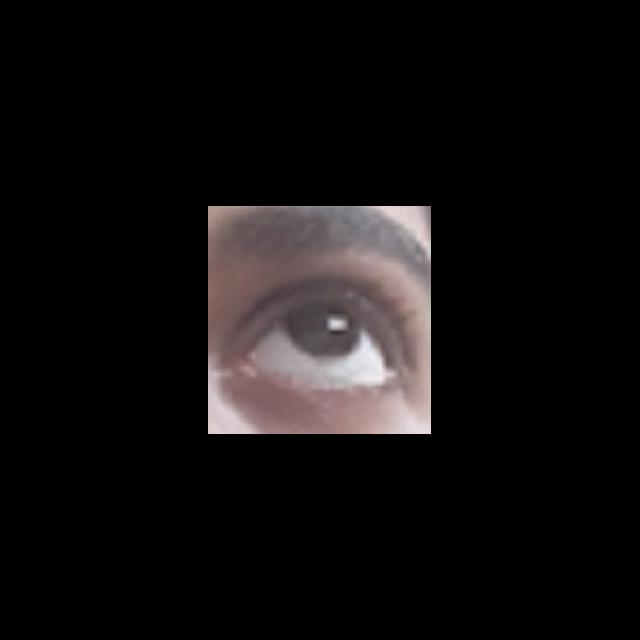eye: (253, 305, 387, 388)
iris: (290, 305, 360, 351)
